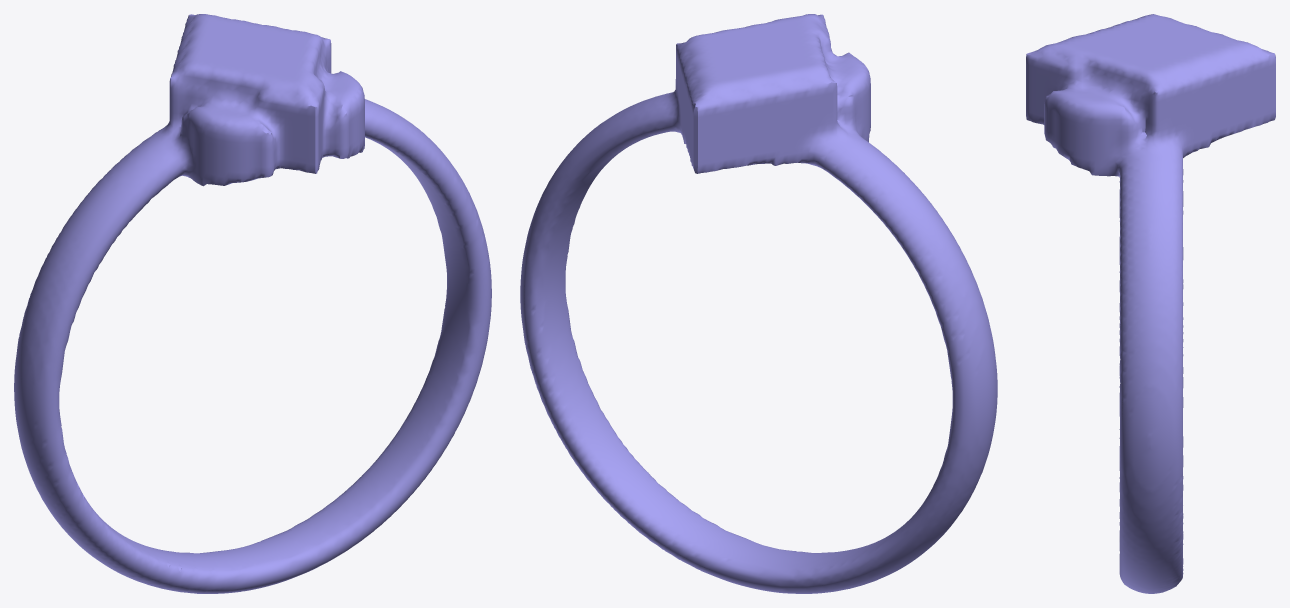
3 views of the same model, side by side, from view 1: azimuth 30°, elevation 25°; view 2: azimuth 150°, elevation 25°; view 3: azimuth 270°, elevation 25° (orthographic).
Parts seen in each view (by area): view 1: split_parent_0; view 2: split_parent_0; view 3: split_parent_0.
Boxes of the visible parts, x1,y1,x2,y2 form: split_parent_0: [14, 14, 491, 593]; split_parent_0: [520, 14, 997, 593]; split_parent_0: [1026, 14, 1275, 593].
Size of the model in its own units: 0.9122 by 1 by 0.431.
